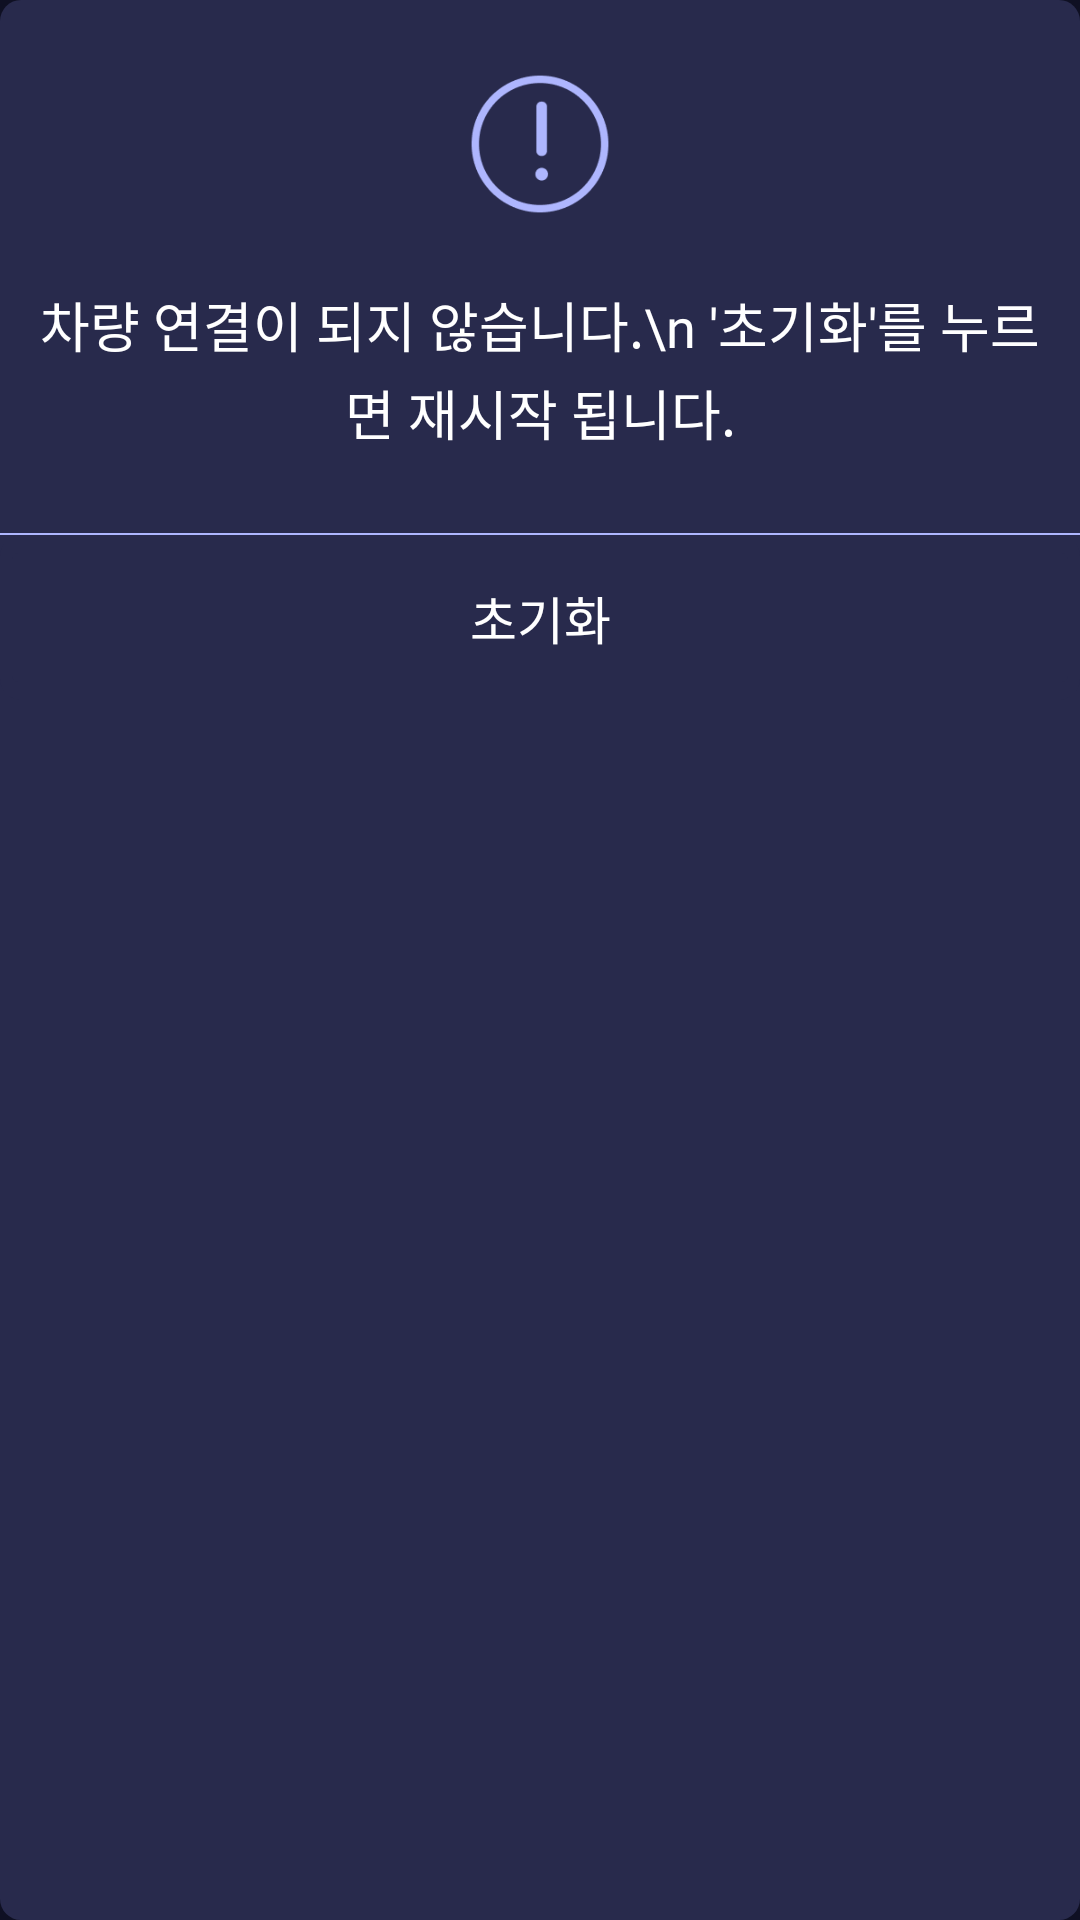

Point at icon controls on the screen. Image size 1080 × 1920, points as (x,y).
caution: (540,144)
